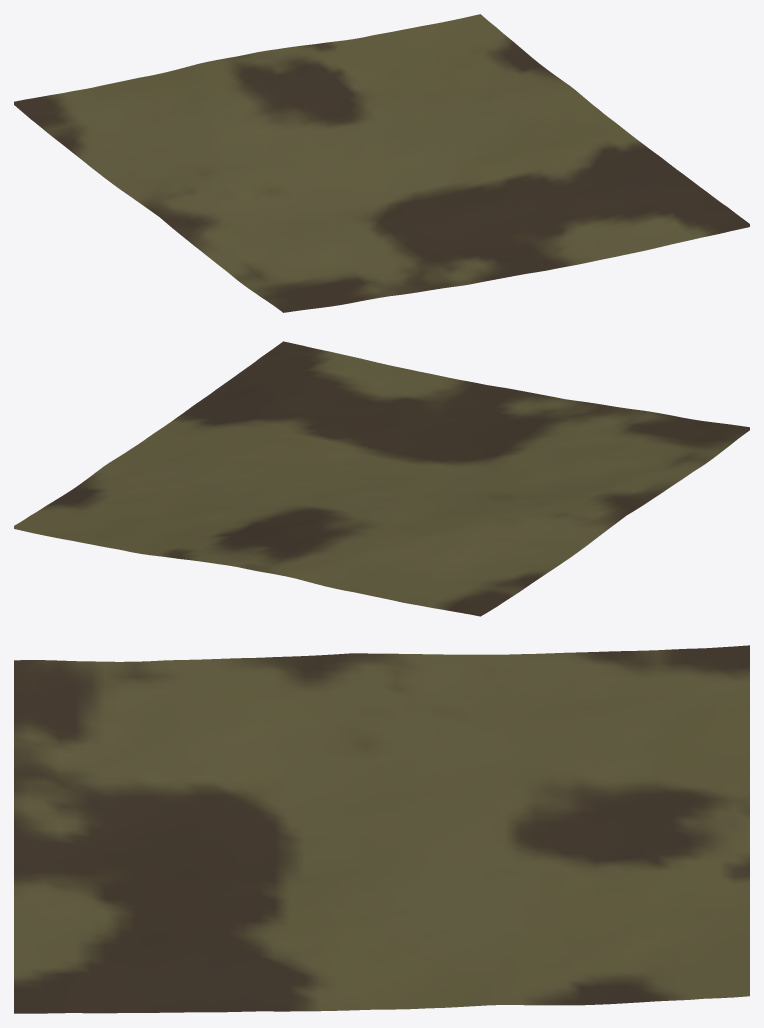
File: land_m_01_00.glb
3 renders of one model, top to bottom at view 1: azimuth 30°, elevation 25°; view 2: azimuth 150°, elevation 25°; view 3: azimuth 270°, elevation 25°, orthographic. The views are drawn at different scales.
Parts seen in each view (by area): view 1: land_m_01_00; view 2: land_m_01_00; view 3: land_m_01_00.
Part boxes in pixels (bbox=[...]): land_m_01_00: bbox=[14, 14, 749, 312]; land_m_01_00: bbox=[14, 341, 749, 616]; land_m_01_00: bbox=[14, 645, 749, 1013].
Bounding box in the file's own units: 960 × 82.4 × 960.
